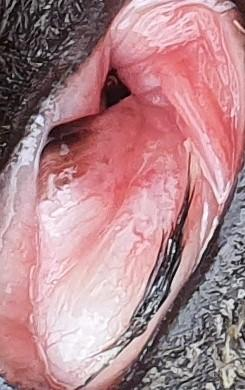eye_membrane: (2, 0, 245, 390)
